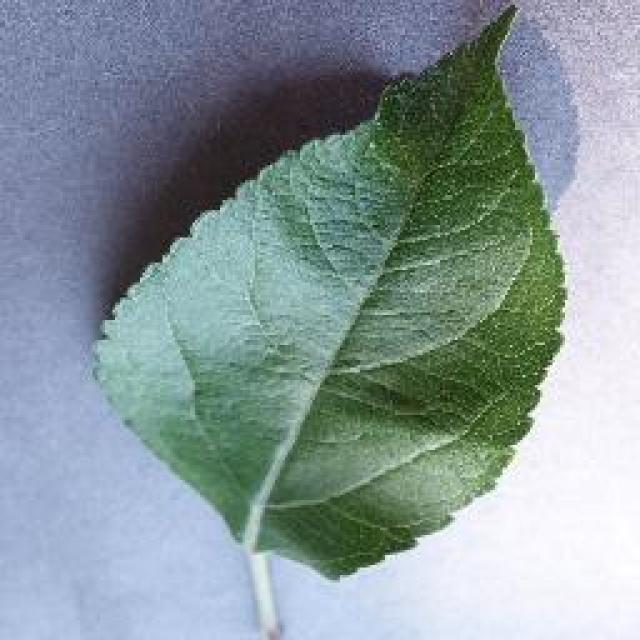App_healthy: (108, 111, 552, 545)
